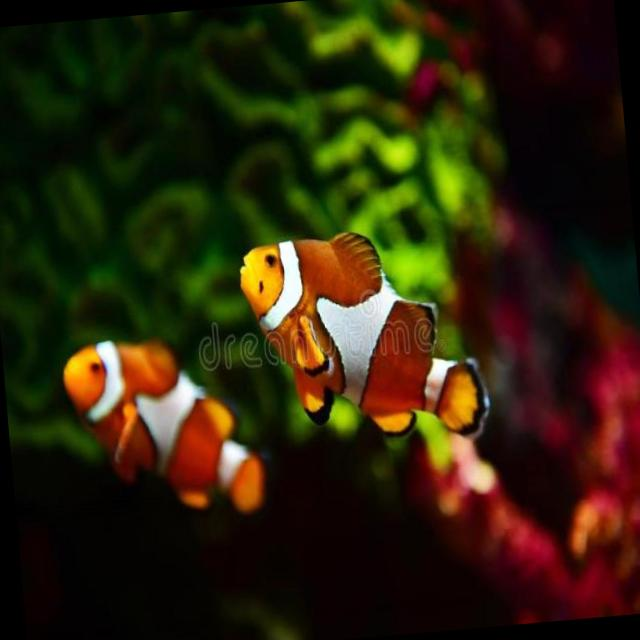ClownFish: (235, 220, 492, 462), (59, 324, 270, 532)
